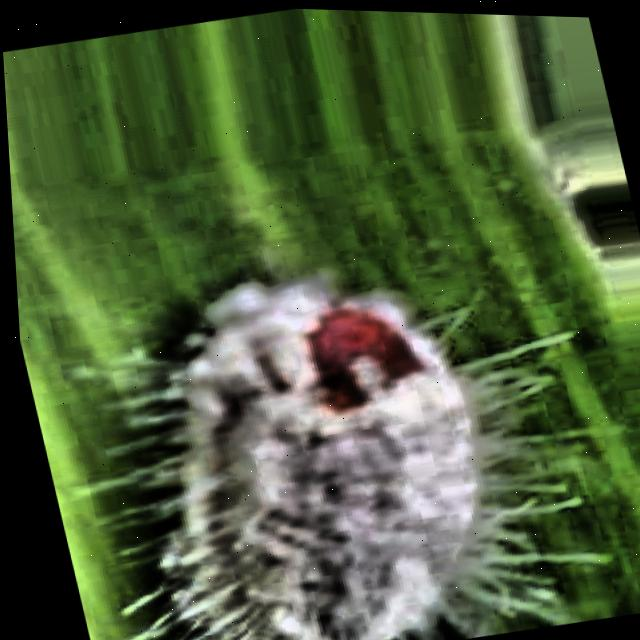Mealy-bug: (12, 167, 640, 640)
